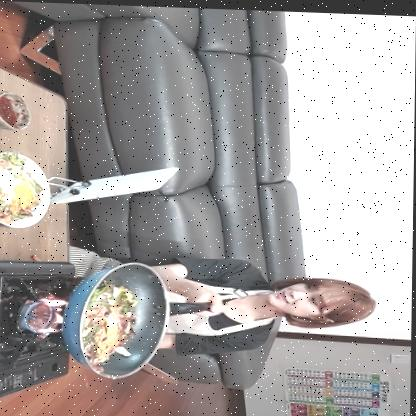streamer: (67, 244, 377, 361)
